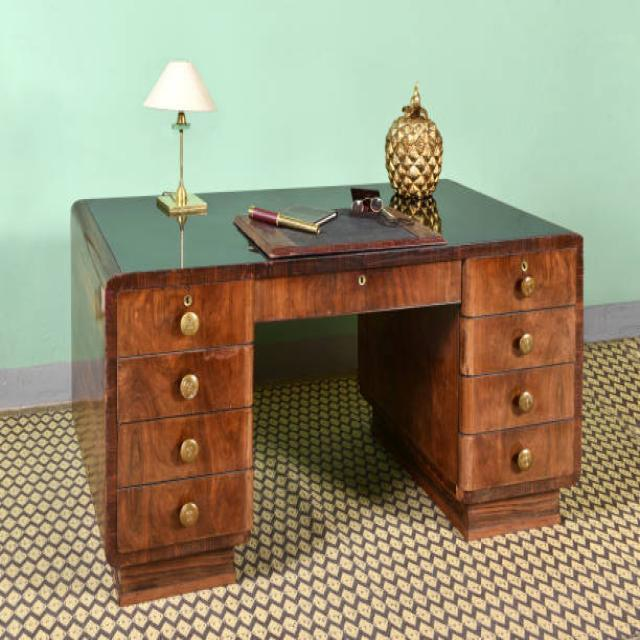table: (69, 176, 585, 606)
